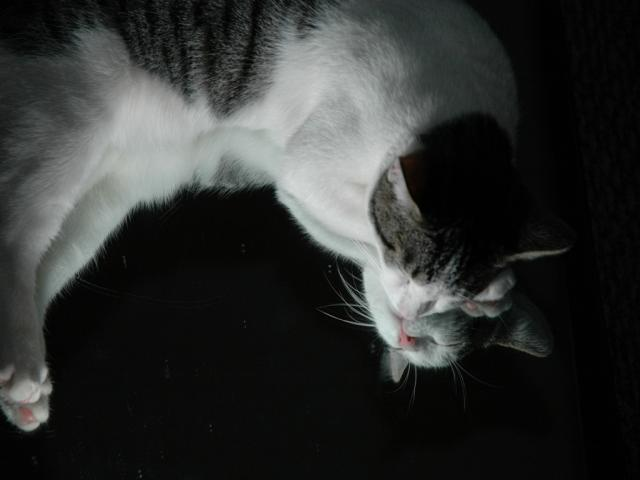Cat: (0, 0, 577, 427)
